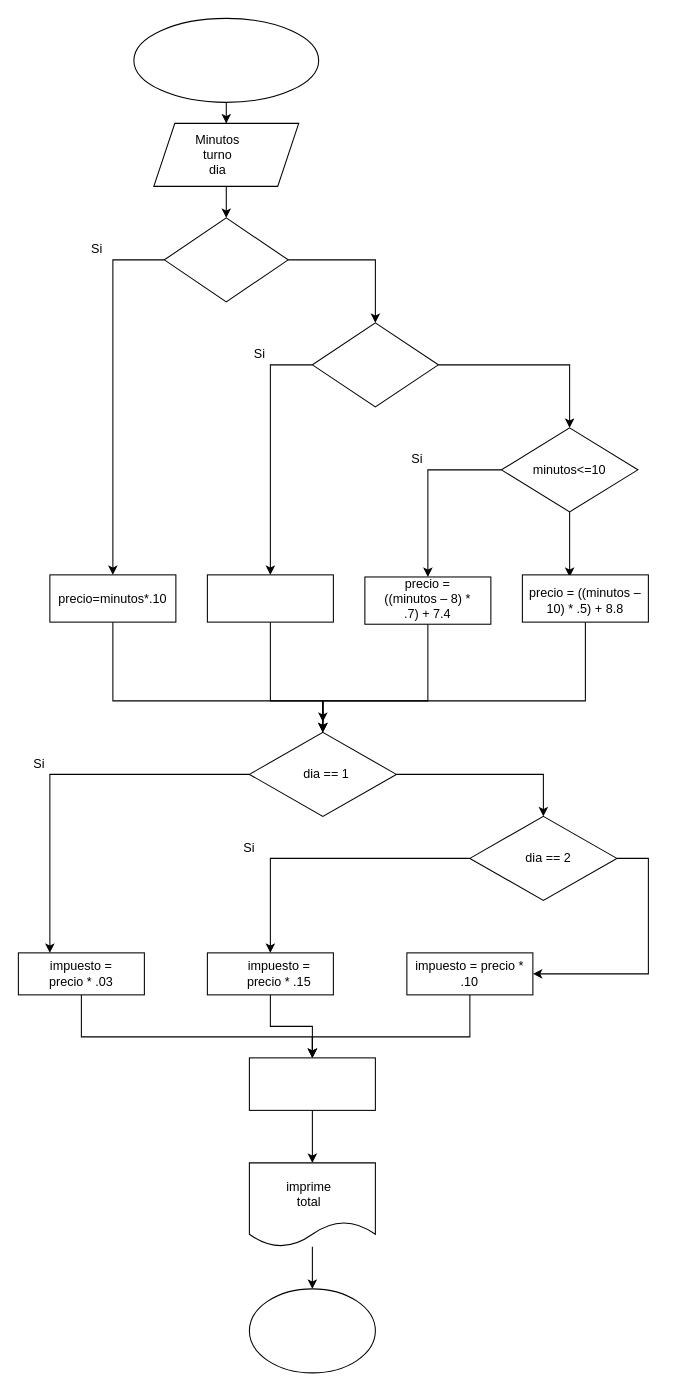
Image size: 675x1391. Some labels were removed from this diagram. The shapes that lost their labels are listed below. From the top down, each one's centre as x and y in pixels, then its label:
At [226,59]: "Inicio".
At [225,259]: "Minutos <=5".
At [374,364]: "Minutos<=8".
At [269,598]: "precio = ((minutos – 5) *.8) + 5".
At [311,1083]: "se calcula el total".
At [311,1330]: "fin".
